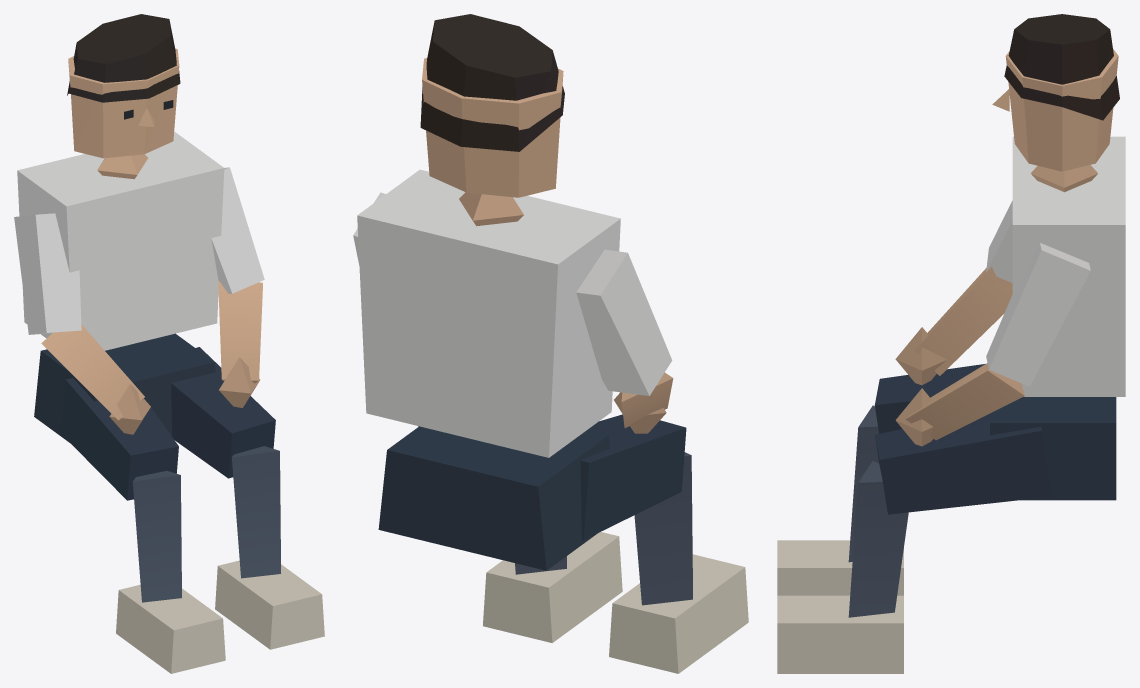
File: fan-01.glb
The picture shows the model from 3 angles, left to right: view 1: azimuth 30°, elevation 25°; view 2: azimuth 150°, elevation 25°; view 3: azimuth 270°, elevation 25°; orthographic projection. The views are drawn at different scales.
Visible parts, largest first — view 1: fan-01; view 2: fan-01; view 3: fan-01.
Boxes of the visible parts, bbox=[...] form: fan-01: bbox=[14, 14, 324, 673]; fan-01: bbox=[353, 14, 748, 673]; fan-01: bbox=[777, 14, 1125, 673].
Size of the model in its own units: 0.6479 by 1.49 by 0.77.
